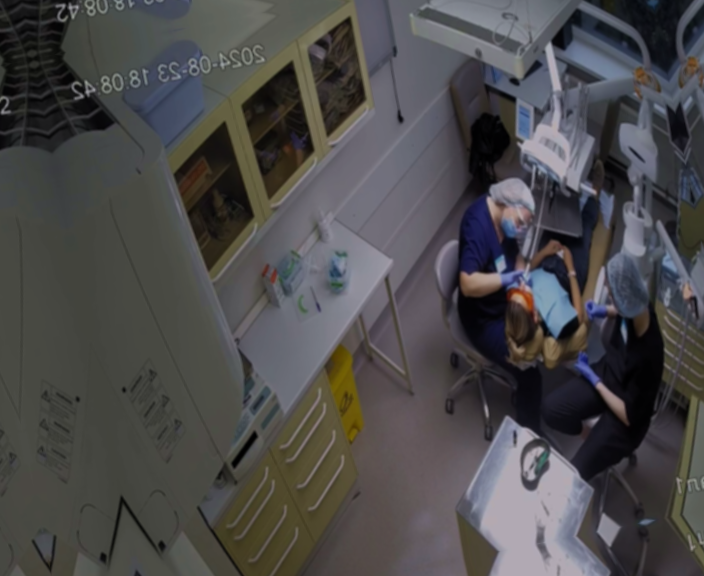Patient: (477, 174, 653, 378)
